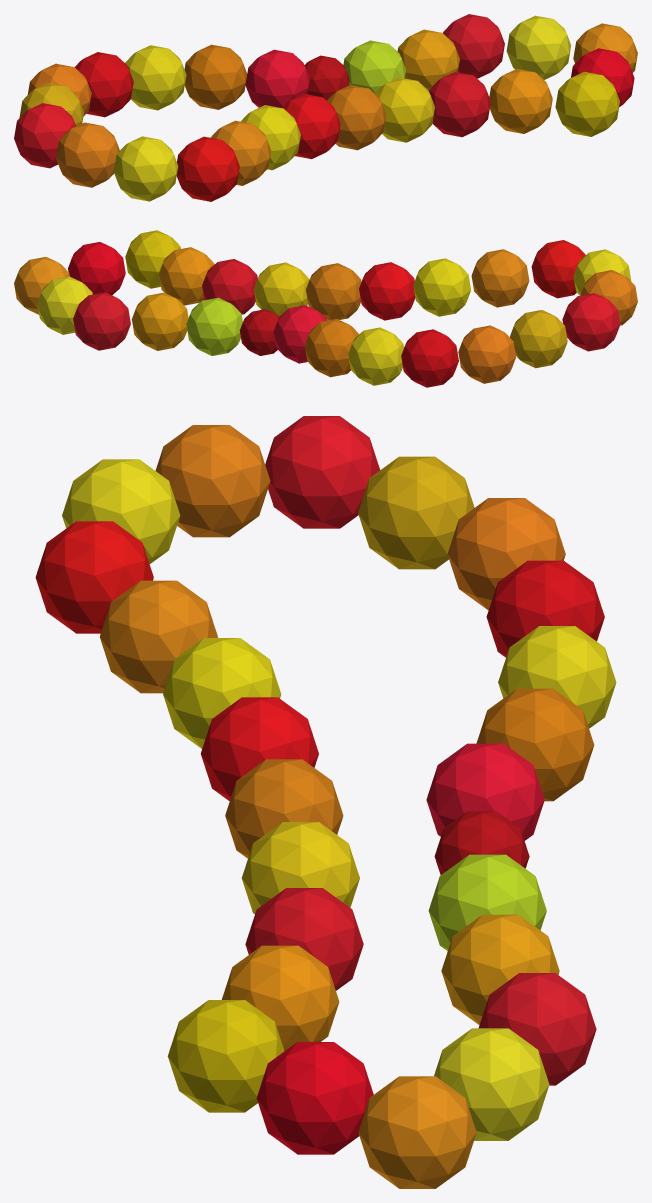
File: Bead$11.fbx
3 renders of one model, top to bottom at view 1: azimuth 30°, elevation 25°; view 2: azimuth 150°, elevation 25°; view 3: azimuth 270°, elevation 25°, orthographic. The views are drawn at different scales.
Visible parts, largest first — view 1: Icosphere.024; view 2: Icosphere.024; view 3: Icosphere.024.
Boxes of the visible parts, x1,y1,x2,y2 form: Icosphere.024: (14,14,637,201); Icosphere.024: (14,230,637,387); Icosphere.024: (35,416,616,1188).
Size of the model in its own units: 1388 by 297 by 609.
